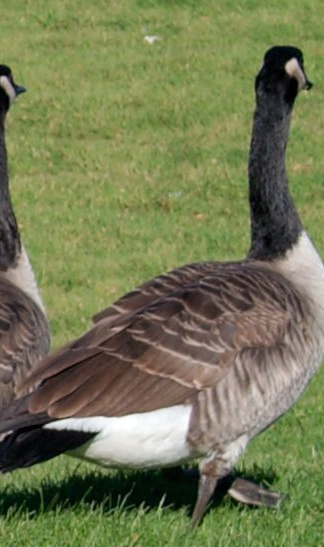goose: (9, 40, 324, 524)
